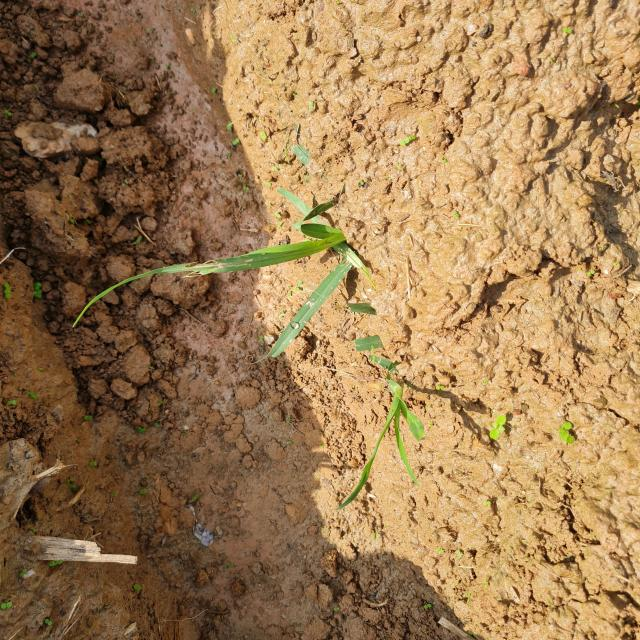weed: (230, 157, 386, 368), (367, 377, 431, 522), (477, 404, 519, 442), (554, 414, 579, 446)
